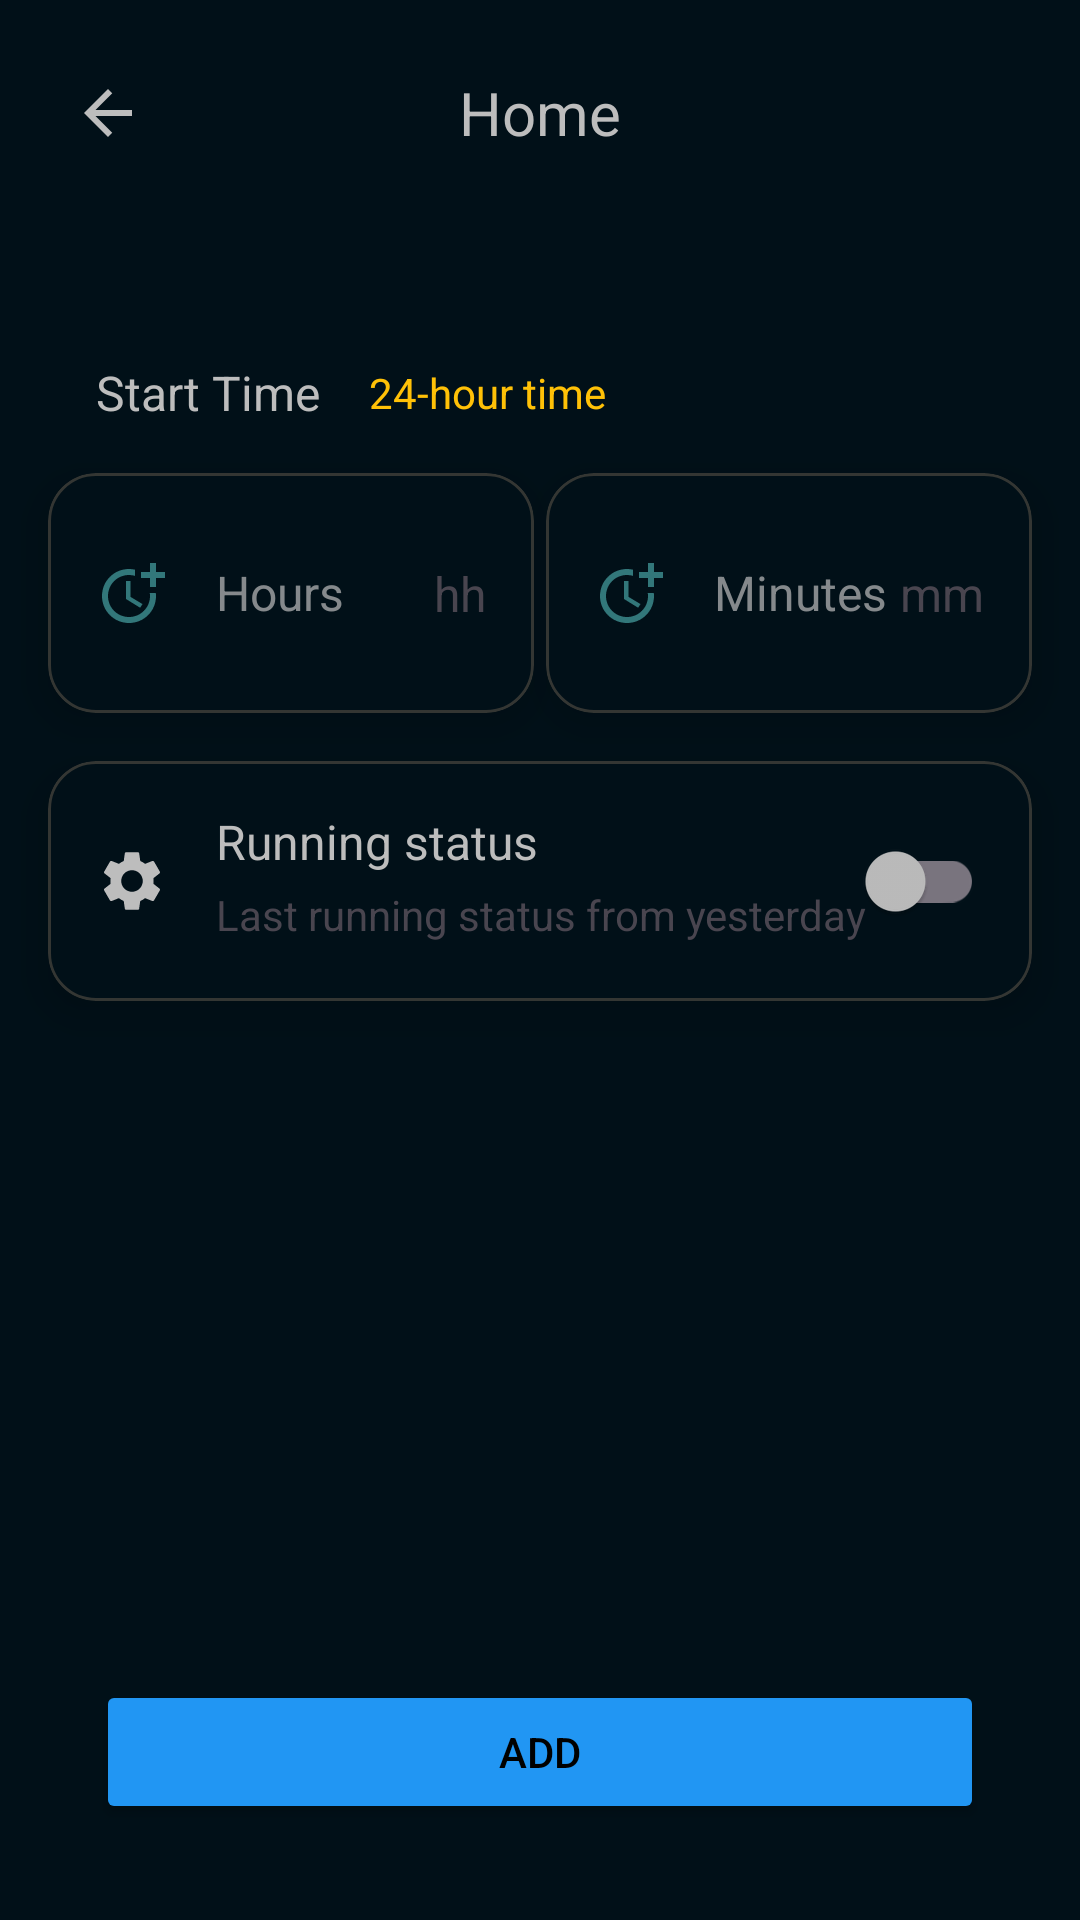

Where icons sit on this 1080 × 1920 app screen, as region(x1, y1, x2, y2):
Go back: region(84, 89, 132, 137)
more time: region(102, 563, 165, 623), region(600, 563, 663, 623)
settings: region(104, 852, 160, 910)
